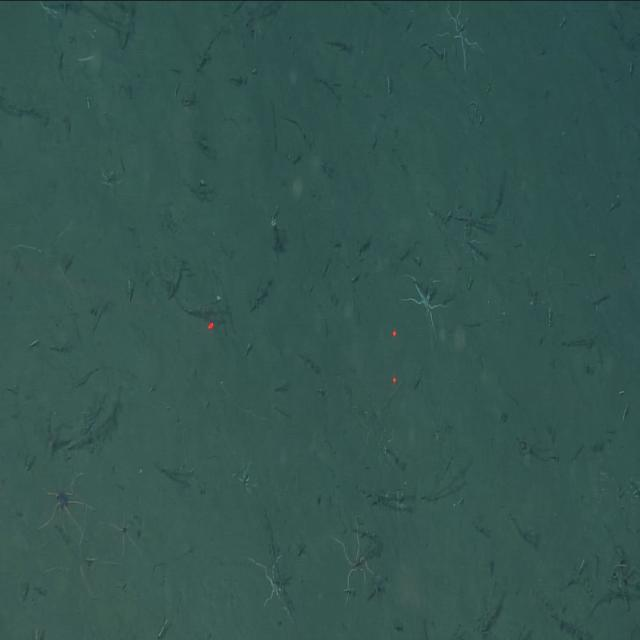Brittle Star: (324, 515, 380, 602), (34, 466, 94, 542), (245, 544, 297, 626), (398, 268, 453, 339), (106, 506, 144, 559)
